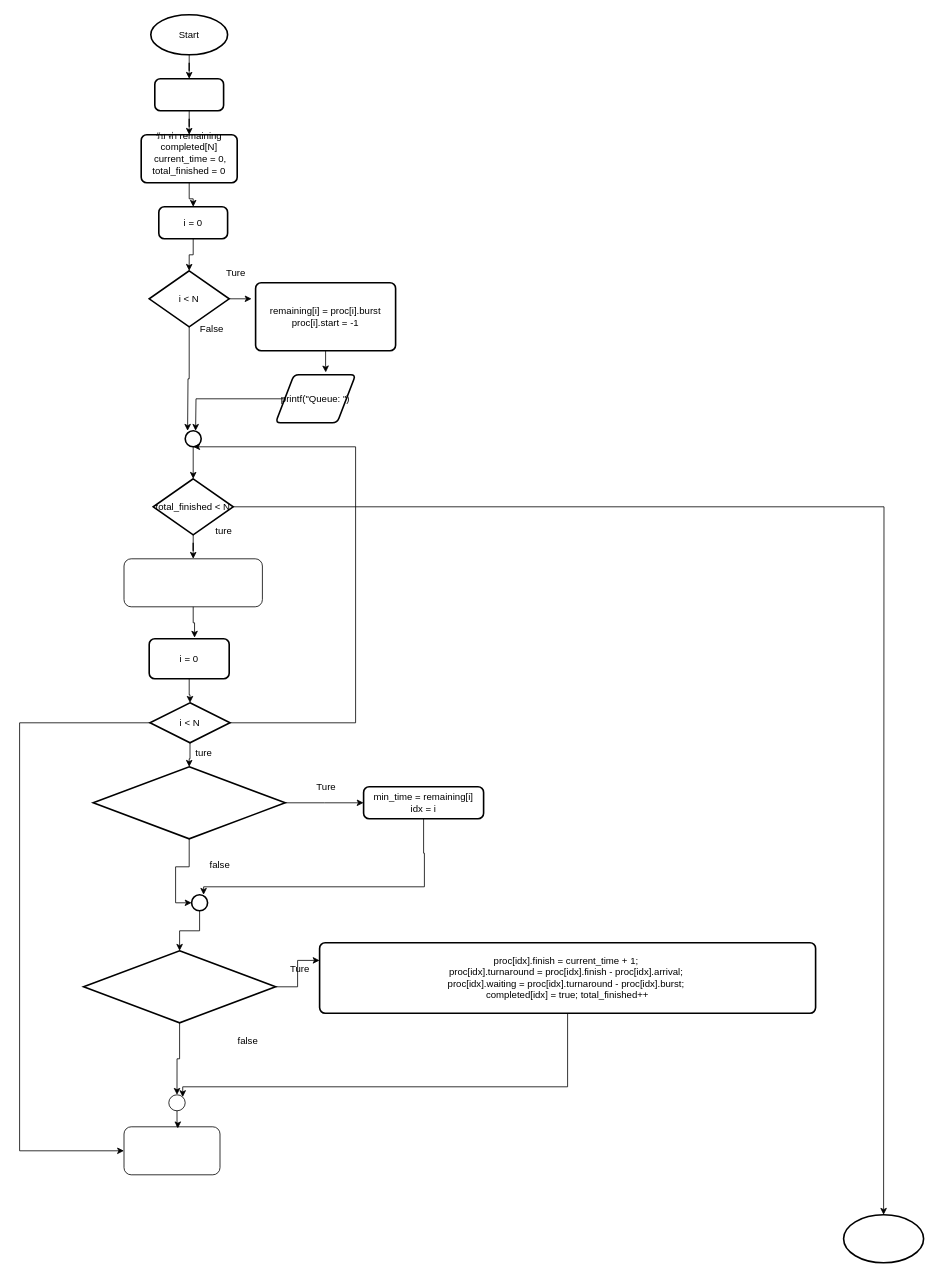
Image size: 938x1277. Some labels were removed from this diagram. Each missing label, with the centre of its shape:
"End" goes at pixel 883 1238.
"i +1" goes at pixel 171 1150.
"if (proc[i].arrival <= current_time && !completed[i] && remaining[i] < min_time)" goes at pixel 189 802.
"int idx = -1 int min_time = INT_MAX;" goes at pixel 192 582.
"remaining[idx] == 0" goes at pixel 179 986.
"รับ ค่า ของ Process" goes at pixel 189 94.
